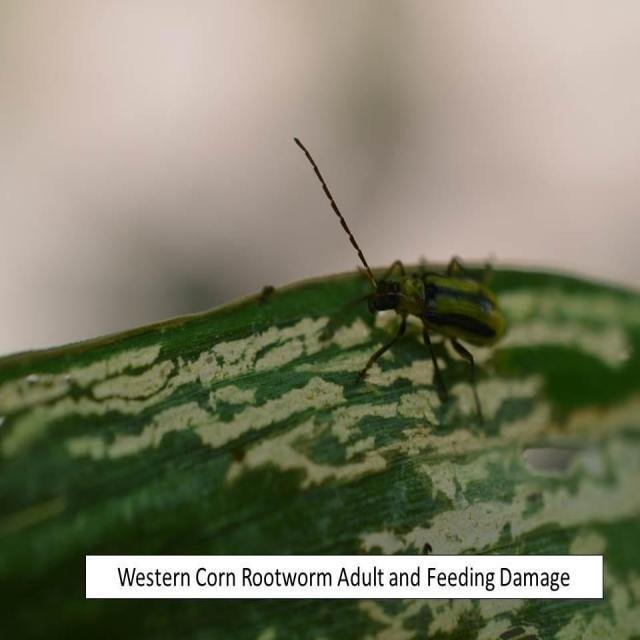trips: (296, 135, 510, 425)
